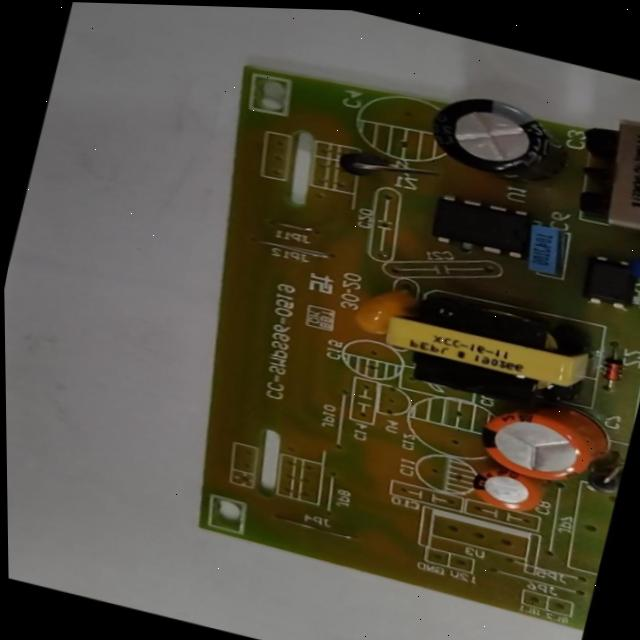Cap1: (469, 397, 606, 495)
Cap2: (463, 462, 548, 520)
Cap3: (432, 90, 569, 188)
MOSFET: (432, 190, 531, 262)
Mov: (629, 248, 640, 286)
Transformer: (377, 282, 596, 422), (575, 108, 640, 238)
